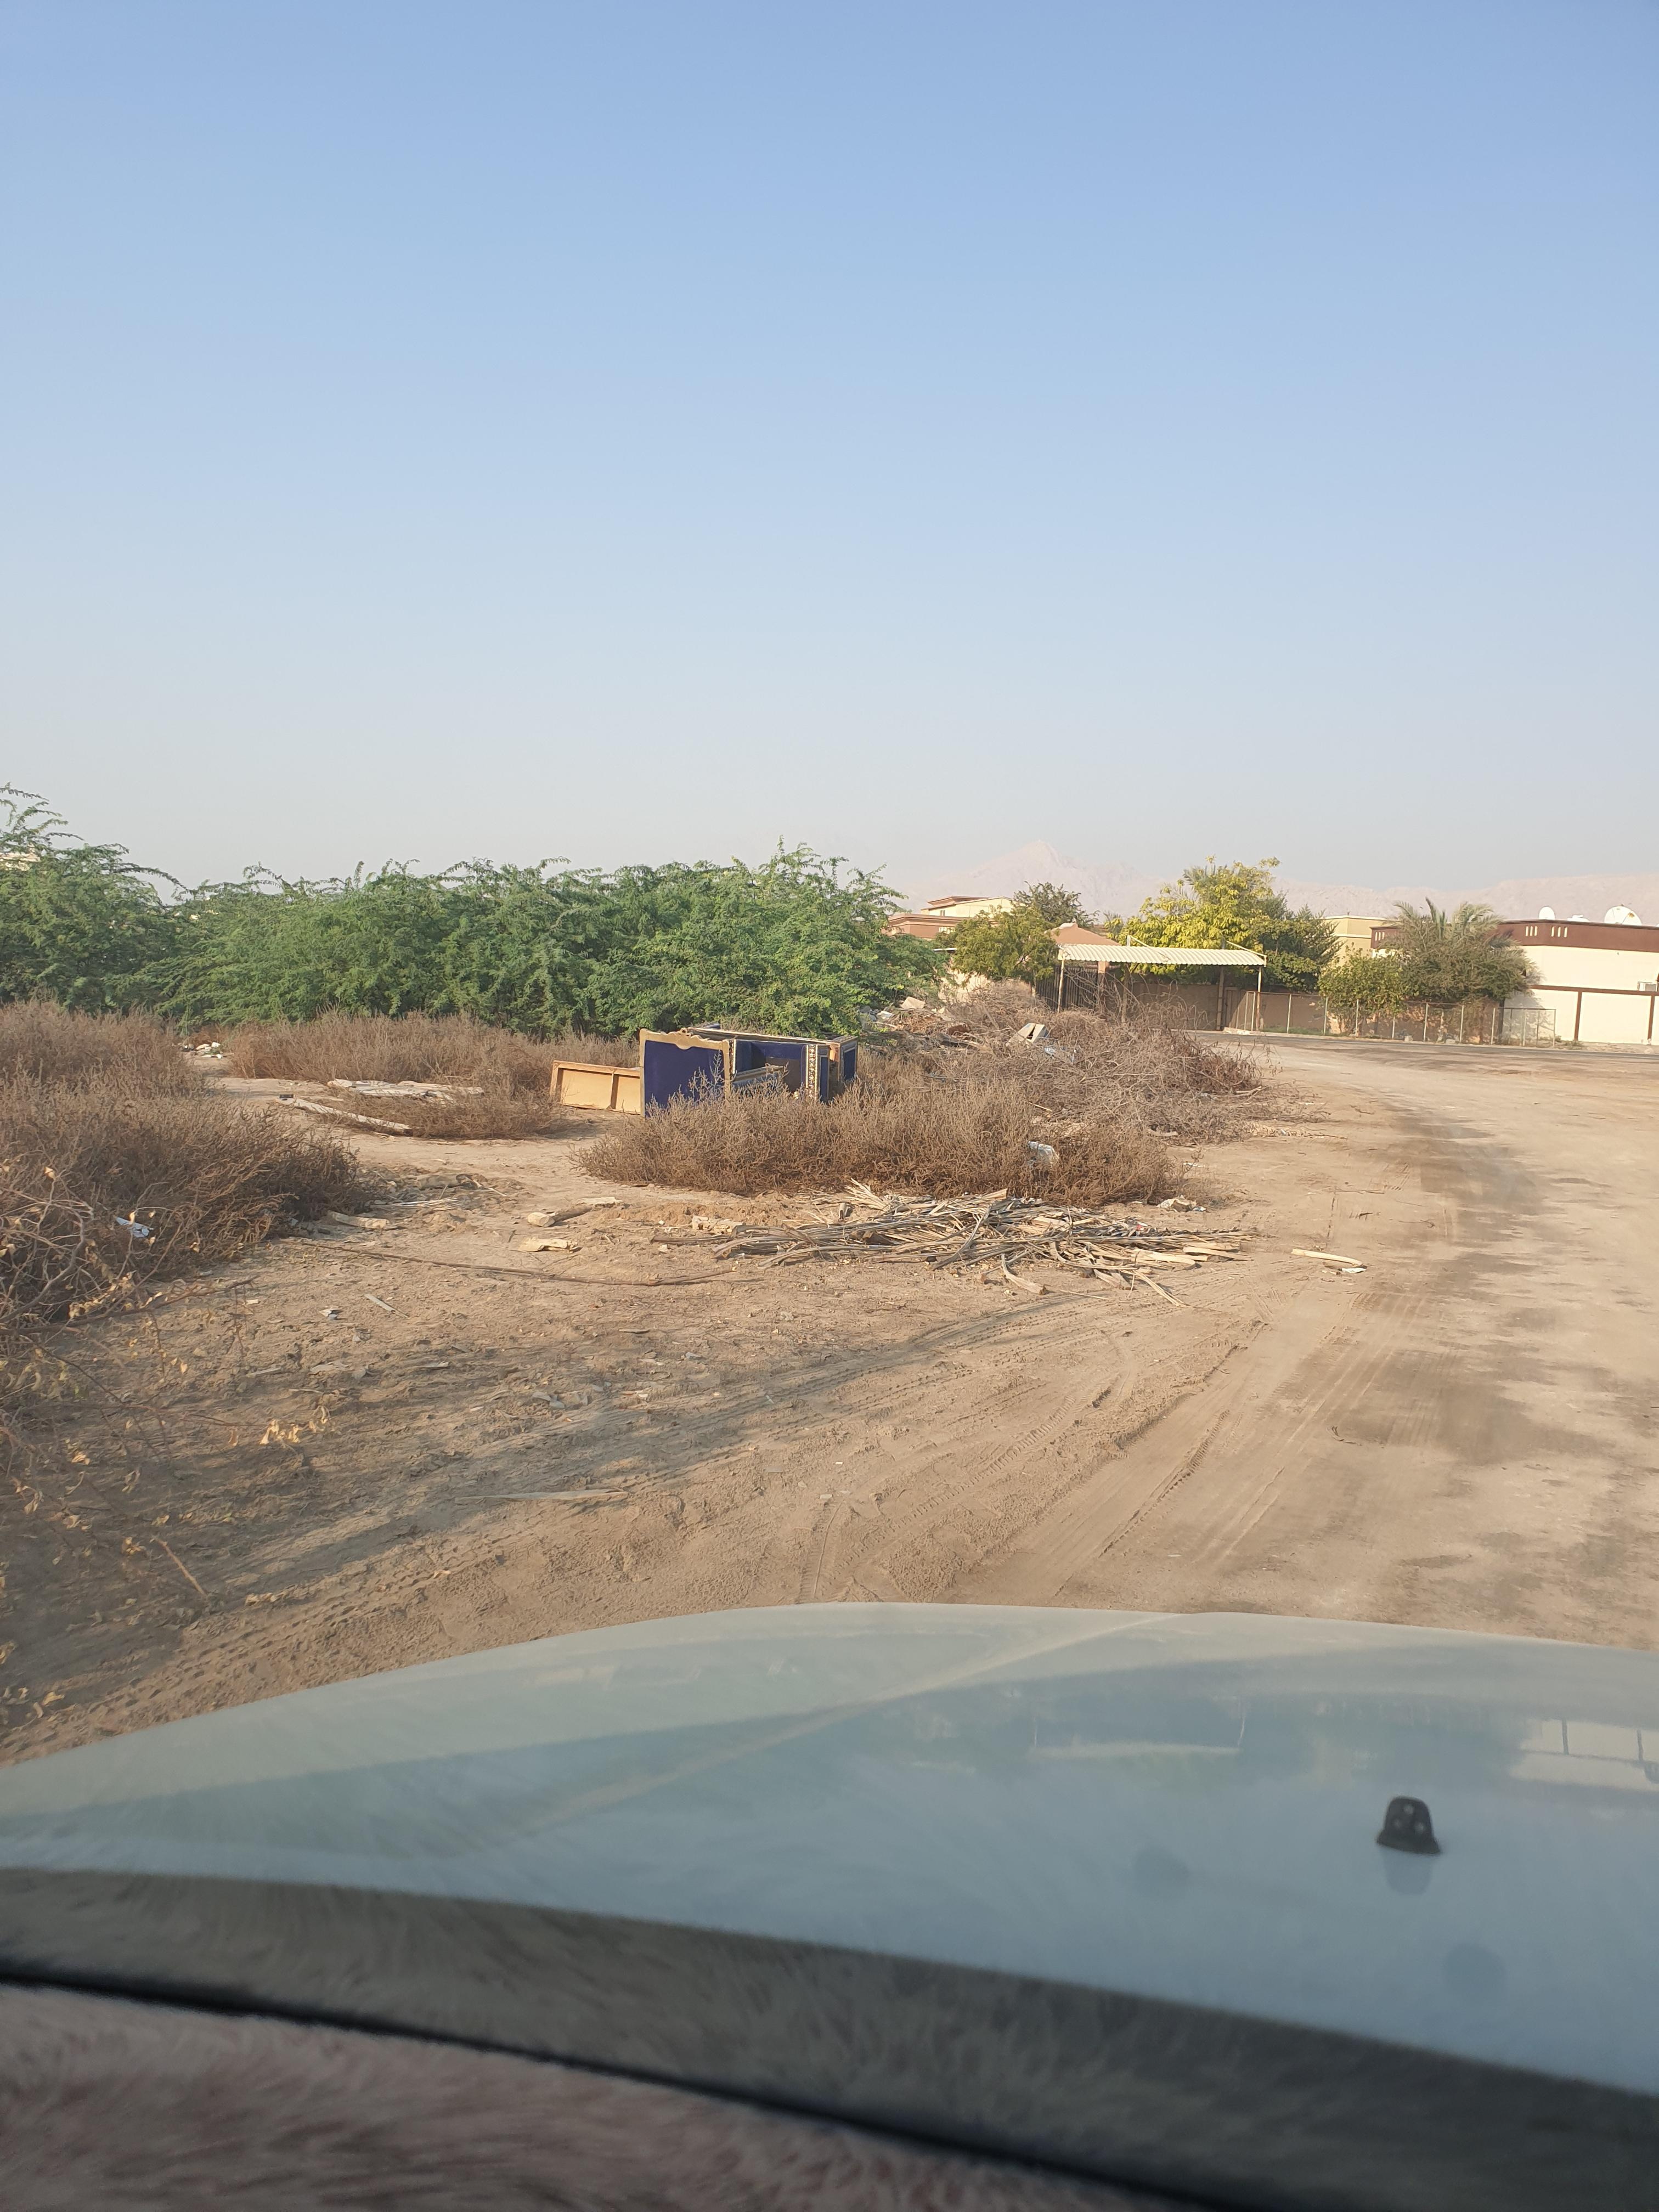fallen_trees: (732, 1195, 1276, 1303)
uncollected_waste: (592, 1012, 922, 1137)
